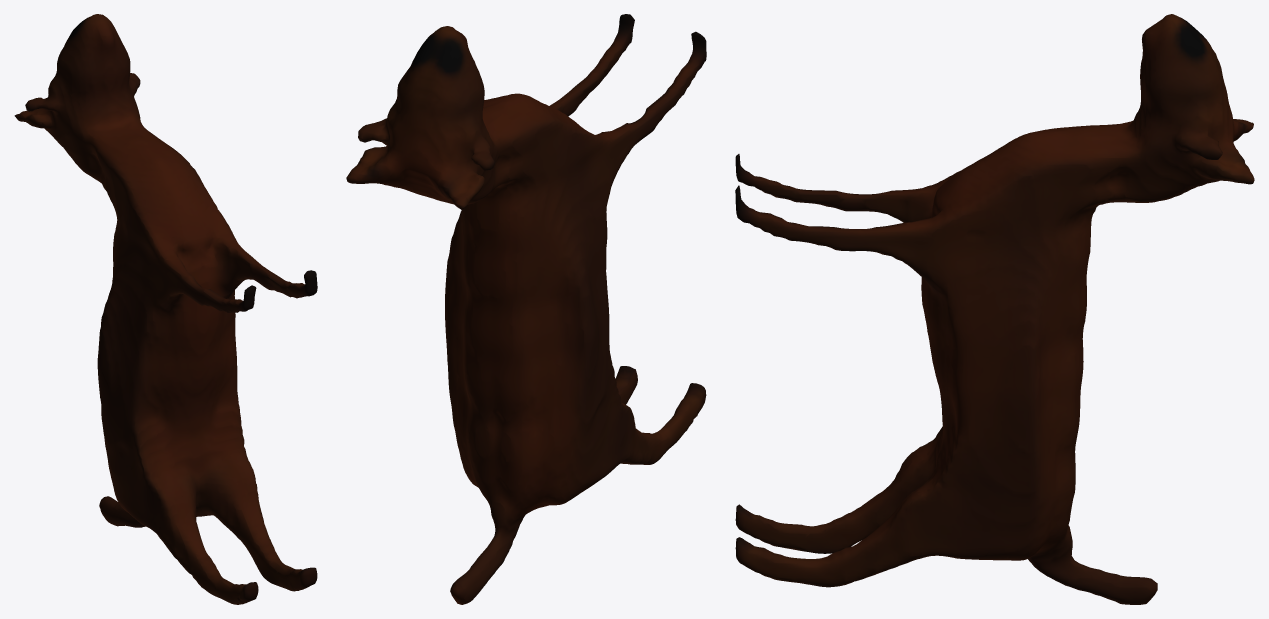
3 renders of one model, left to right at view 1: azimuth 30°, elevation 25°; view 2: azimuth 150°, elevation 25°; view 3: azimuth 270°, elevation 25°, orthographic. The views are drawn at different scales.
Parts seen in each view (by area): view 1: plyFile; view 2: plyFile; view 3: plyFile.
Part boxes in pixels (left/top/right/bottom): plyFile: left=14, top=14, right=317, bottom=604; plyFile: left=346, top=14, right=706, bottom=604; plyFile: left=735, top=14, right=1254, bottom=604.
Bounding box in the file's own units: 50.47 × 198 × 158.
